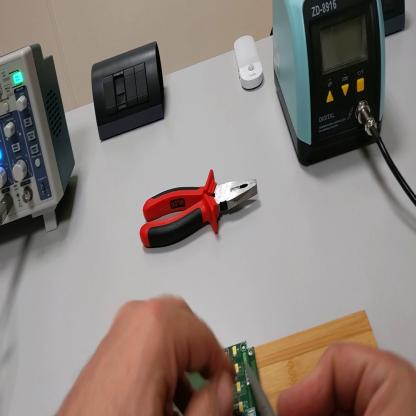hand: (60, 290, 236, 415), (278, 343, 416, 416)
low voltage board: (189, 342, 265, 416)
oscilloscope: (2, 45, 77, 241)
oscilloscope probe tip: (244, 362, 276, 413)
pliers: (140, 168, 260, 244)
socket: (383, 2, 407, 38)
welder station: (272, 3, 387, 168)
working area: (256, 306, 384, 415)
